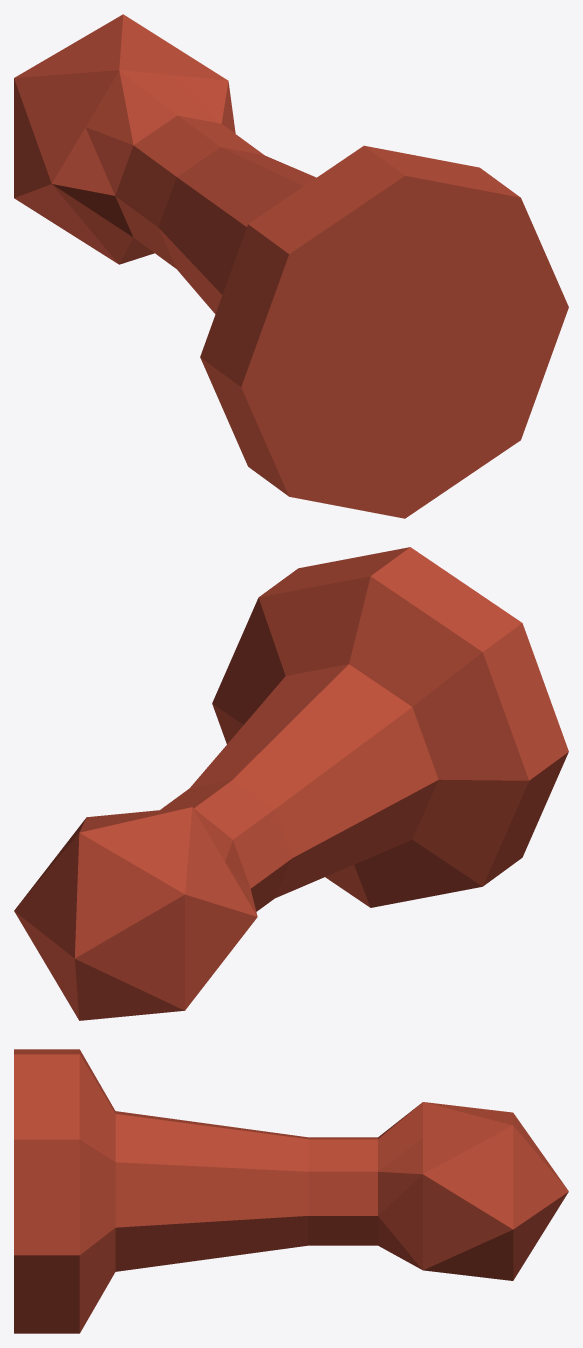
File: Game_Piece_Red.fbx
3 renders of one model, top to bottom at view 1: azimuth 30°, elevation 25°; view 2: azimuth 150°, elevation 25°; view 3: azimuth 270°, elevation 25°, orthographic. The views are drawn at different scales.
Parts seen in each view (by area): view 1: Game_Piece_Red; view 2: Game_Piece_Red; view 3: Game_Piece_Red.
Part boxes in pixels (x1=…): Game_Piece_Red: x1=14, y1=14, x2=568, y2=518; Game_Piece_Red: x1=14, y1=547, x2=568, y2=1020; Game_Piece_Red: x1=14, y1=1049, x2=568, y2=1333.
Size of the model in its own units: 0.6 by 0.6 by 1.1.
1 material, 1 textured.
